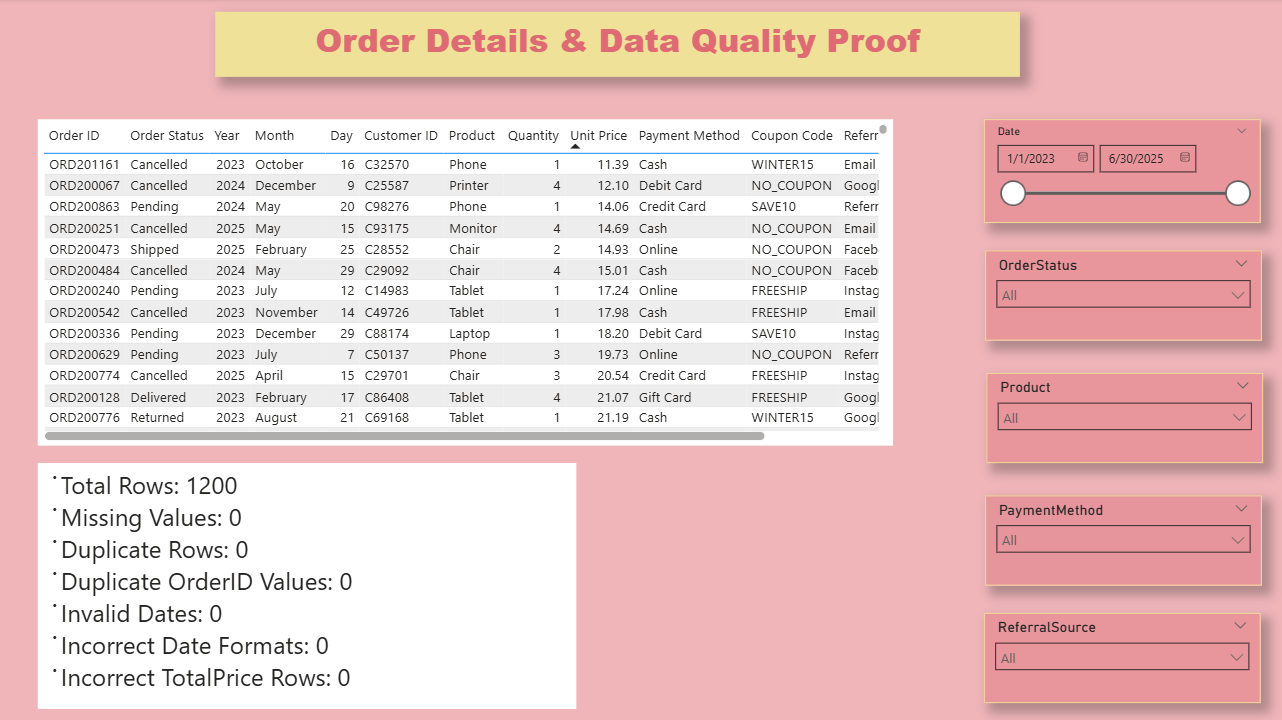

What the dashboard file says about the page in this screenshot:
{"tool":"powerbi","page":{"name":"Order Details & Quality Proof","canvas":[1280,720],"ordinal":1},"visuals":[{"type":"tableEx","fields":{"Values":["orders_cleaned.OrderID","orders_cleaned.OrderStatus","orders_cleaned.Date.Variation.Date Hierarchy.Year","orders_cleaned.Date.Variation.Date Hierarchy.Month","orders_cleaned.Date.Variation.Date Hierarchy.Day","orders_cleaned.CustomerID","orders_cleaned.Product","orders_cleaned.Quantity","orders_cleaned.UnitPrice","orders_cleaned.PaymentMethod","orders_cleaned.CouponCode","orders_cleaned.ReferralSource"]},"box":[38.6,120.7,850.9,324.7],"z":1},{"type":"slicer","fields":{"Values":["orders_cleaned.Date"]},"box":[980.2,120.7,274.9,103.2],"z":2},{"type":"slicer","fields":{"Values":["orders_cleaned.OrderStatus"]},"box":[981.5,251.3,274.9,89.6],"z":3},{"type":"slicer","fields":{"Values":["orders_cleaned.Product"]},"box":[982.7,373.2,274.9,89.6],"z":4},{"type":"slicer","fields":{"Values":["orders_cleaned.PaymentMethod"]},"box":[981.5,495.1,274.9,89.6],"z":5},{"type":"slicer","fields":{"Values":["orders_cleaned.ReferralSource"]},"box":[980.2,612,274.9,89.6],"z":6},{"type":"textbox","box":[215.2,13.7,801.1,64.7],"z":7},{"type":"textbox","box":[38.6,462.8,536.1,245.1],"z":8}]}

Visuals, with their boxes in screenshot pixels (x1, y1, x2, y2), scaled from the page's 1280x720 canvas onto the 1282x720 screenshot:
tableEx - orders_cleaned.OrderID x orders_cleaned.OrderStatus: [left=39, top=121, right=891, bottom=445]
slicer - orders_cleaned.Date: [left=982, top=121, right=1257, bottom=224]
slicer - orders_cleaned.OrderStatus: [left=983, top=251, right=1258, bottom=341]
slicer - orders_cleaned.Product: [left=984, top=373, right=1260, bottom=463]
slicer - orders_cleaned.PaymentMethod: [left=983, top=495, right=1258, bottom=585]
slicer - orders_cleaned.ReferralSource: [left=982, top=612, right=1257, bottom=702]
textbox: [left=216, top=14, right=1018, bottom=78]
textbox: [left=39, top=463, right=576, bottom=708]
